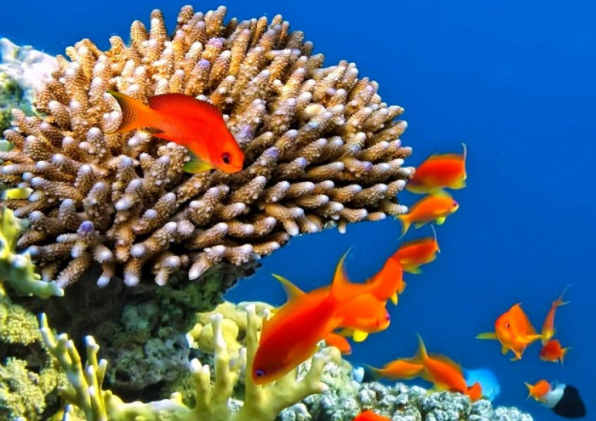fishSmall: (251, 247, 384, 388), (108, 90, 243, 174), (270, 273, 389, 343), (396, 331, 470, 396), (404, 142, 484, 196), (476, 302, 541, 362), (392, 194, 458, 242), (538, 283, 573, 346), (544, 381, 586, 419), (363, 356, 420, 383), (538, 340, 571, 366), (524, 379, 550, 402)
